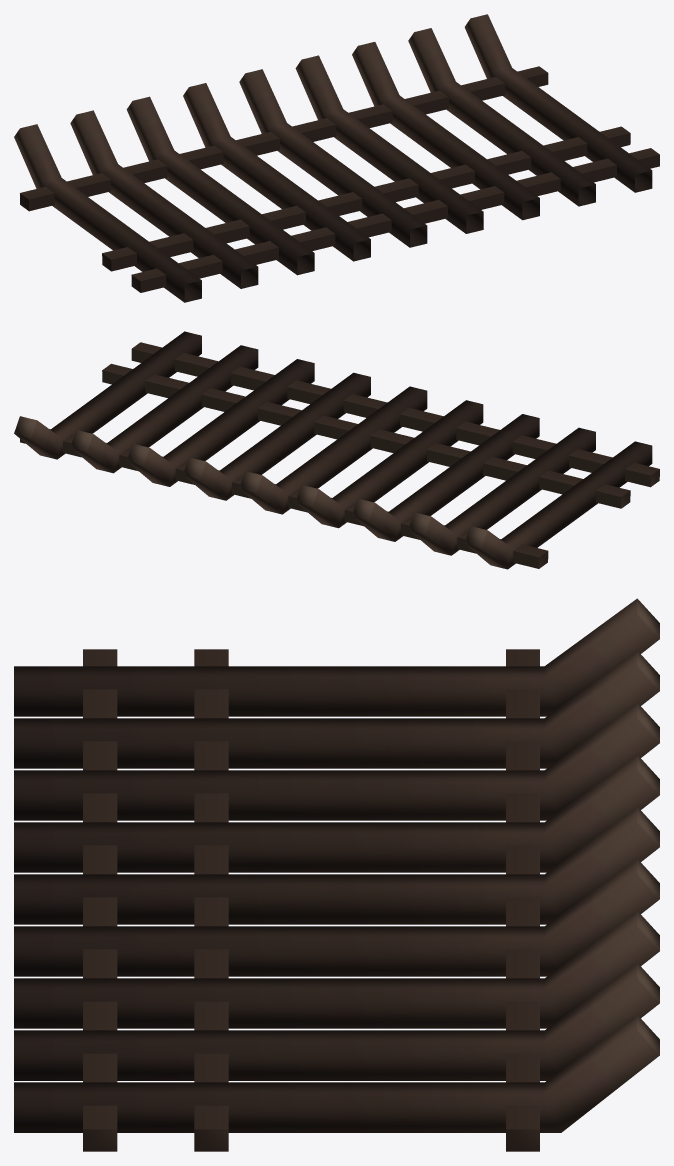
The model's file is Fence 01.FBX.
3 views of the same model, one above another, from view 1: azimuth 30°, elevation 25°; view 2: azimuth 150°, elevation 25°; view 3: azimuth 270°, elevation 25° (orthographic). The views are drawn at different scales.
Parts seen in each view (by area): view 1: Fence 01; view 2: Fence 01; view 3: Fence 01.
Part boxes in pixels (left/top/right/bottom): Fence 01: left=14, top=14, right=659, bottom=302; Fence 01: left=14, top=331, right=659, bottom=569; Fence 01: left=14, top=598, right=659, bottom=1151.
Size of the model in its own units: 461 by 45.8 by 262.
1 material, 1 textured.
